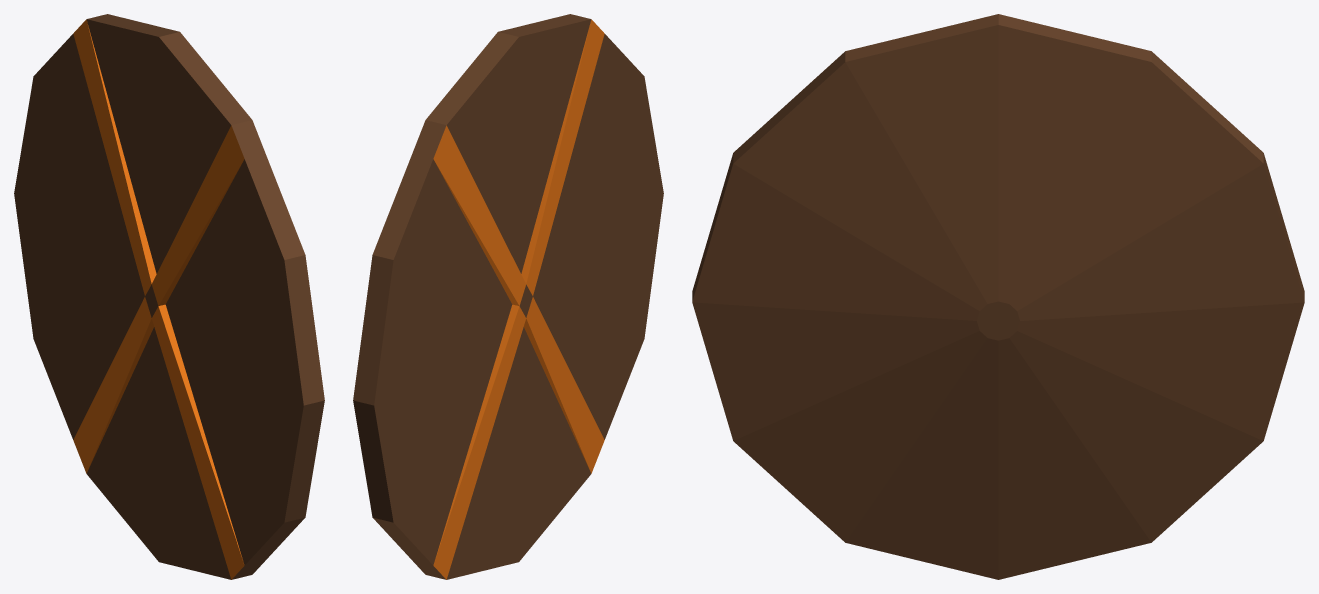
File: Character Shield.fbx
3 views of the same model, side by side, from view 1: azimuth 30°, elevation 25°; view 2: azimuth 150°, elevation 25°; view 3: azimuth 270°, elevation 25° (orthographic). The views are drawn at different scales.
Parts seen in each view (by area): view 1: WoodenShield; view 2: WoodenShield; view 3: WoodenShield.
Part boxes in pixels (x1=…): WoodenShield: x1=14, y1=14, x2=324, y2=579; WoodenShield: x1=353, y1=14, x2=663, y2=579; WoodenShield: x1=692, y1=14, x2=1304, y2=579.
Size of the model in its own units: 17.87 by 139 by 139.
